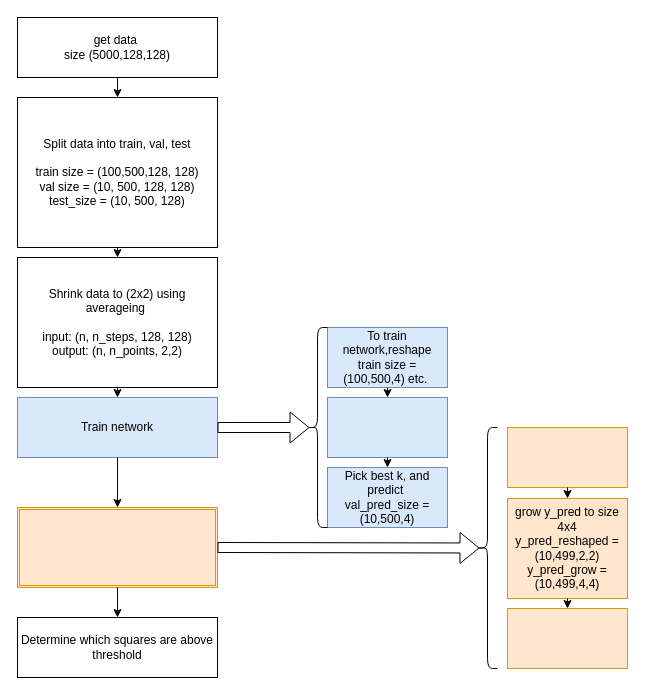
The diagram is 645 pixels wide and 695 high, and some of its shapes have lost their labels. Here are the shapes that lost their labels. From the top down, the centre of each, then its label:
pixel 387 427: Cross validate over different timestep sizes
pixel 567 457: Get val_data_next size is (10,500,4,4)
pixel 117 547: Find error over validation set, compare validation 4x4 to val_pred of size 2x2
pixel 567 638: find average error over all time, and 10 points mse size = (4,4)
